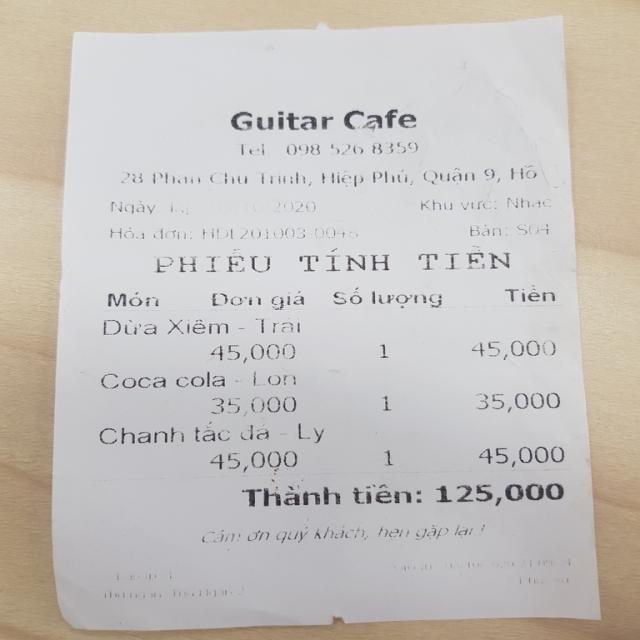Date: (195, 195, 328, 218)
Store_Name: (221, 101, 427, 138)
amount_number: (434, 476, 566, 506)
label_total: (234, 478, 420, 509)
